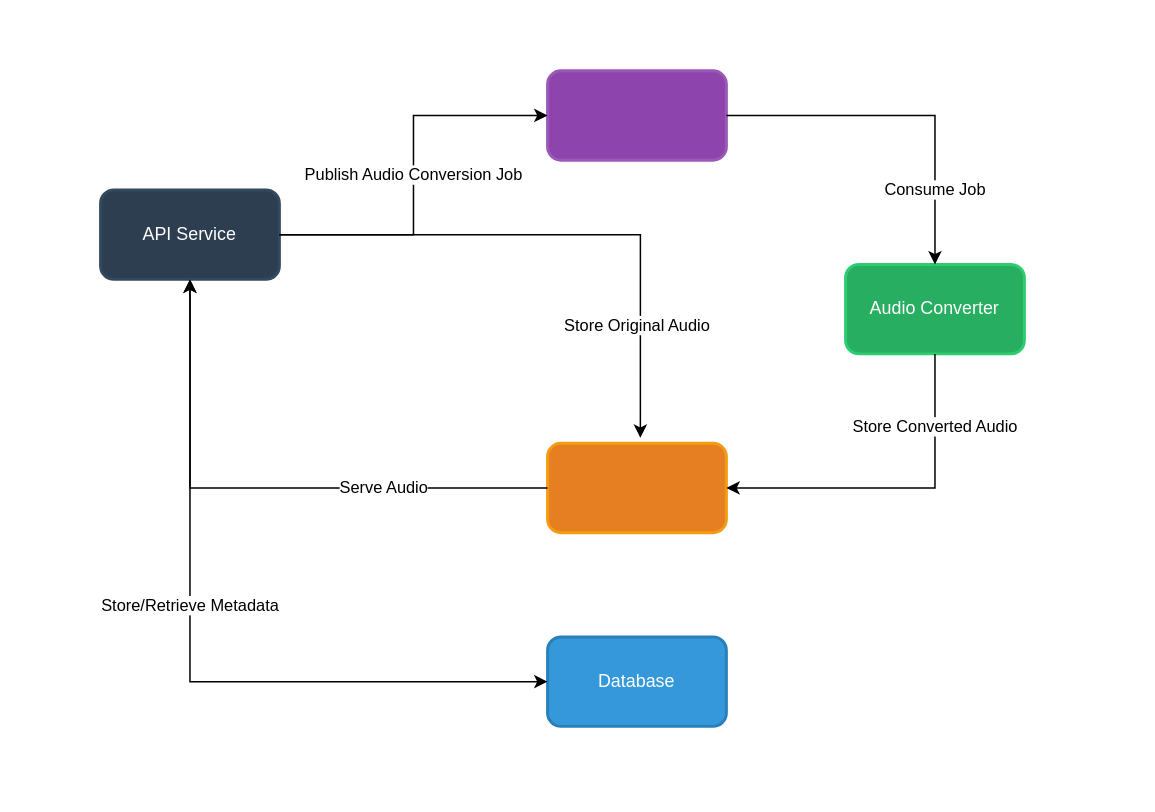
The diagram is 1155 pixels wide and 812 high, and some of its shapes have lost their labels. The shapes that lost their labels are listed below. From the top down, each one's centre as x and y in pixels, then its label:
pixel 636 115: Message Queue
pixel 636 487: Storage Service
